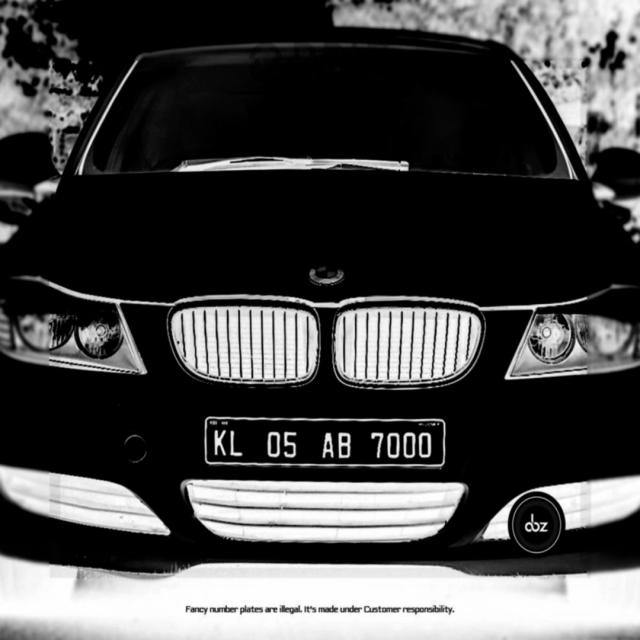Non_registered: (204, 418, 446, 470)
